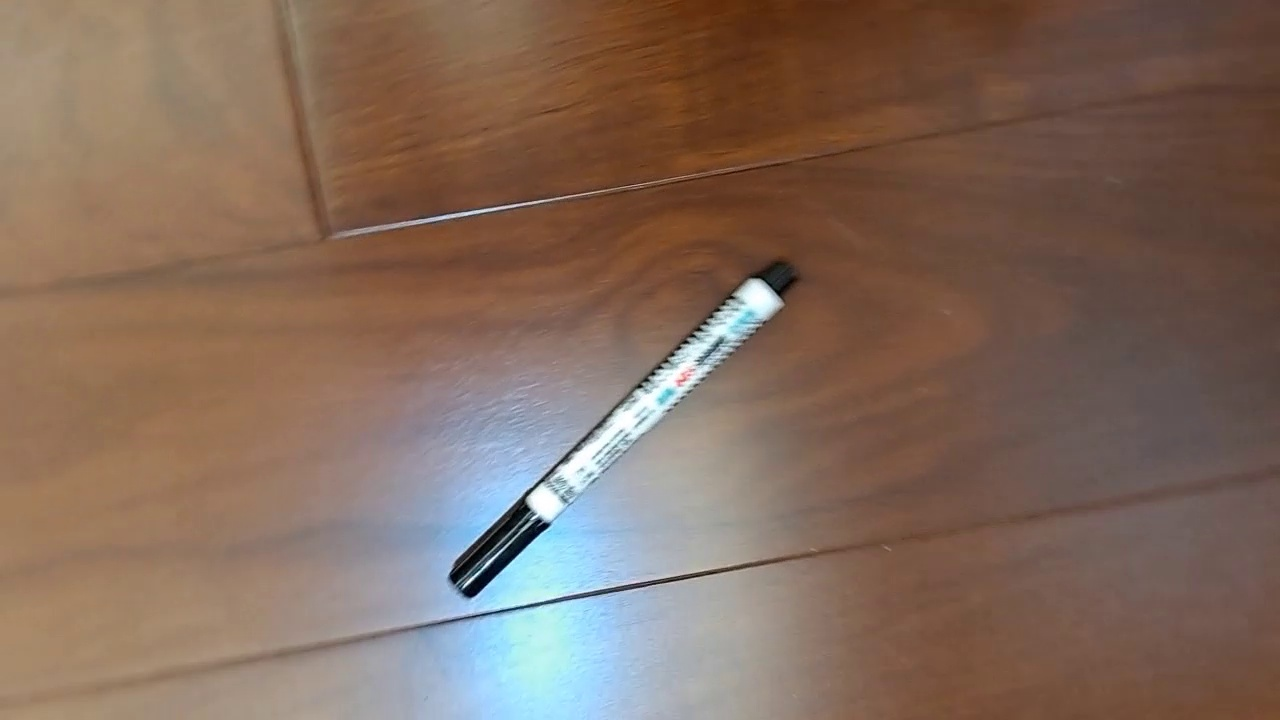pen: (447, 258, 801, 599)
